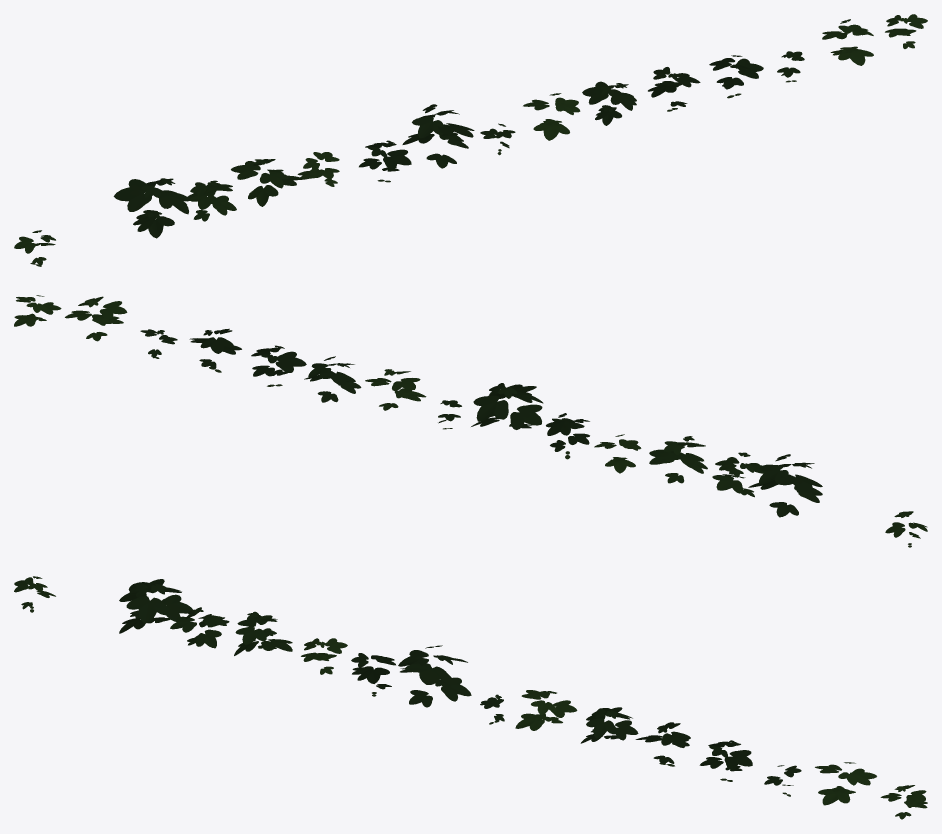
Rendered from ROW_20_SEG3_foliage.dae.
3 views of the same model, one above another, from view 1: azimuth 30°, elevation 25°; view 2: azimuth 150°, elevation 25°; view 3: azimuth 330°, elevation 25° (orthographic).
Parts seen in each view (by area): view 1: ROW_20_SEG3_foliage; view 2: ROW_20_SEG3_foliage; view 3: ROW_20_SEG3_foliage.
Boxes of the visible parts, x1,y1,x2,y2 form: ROW_20_SEG3_foliage: [14, 14, 927, 266]; ROW_20_SEG3_foliage: [14, 295, 927, 547]; ROW_20_SEG3_foliage: [14, 576, 927, 819].
Bounding box in the file's own units: 4.81 × 0.3654 × 0.3061.
